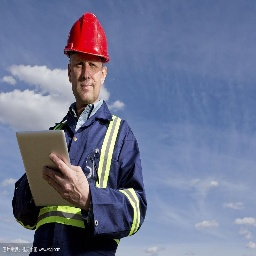helmet: (62, 11, 113, 63)
no-vest: (32, 110, 134, 237)
person: (25, 12, 135, 250)
